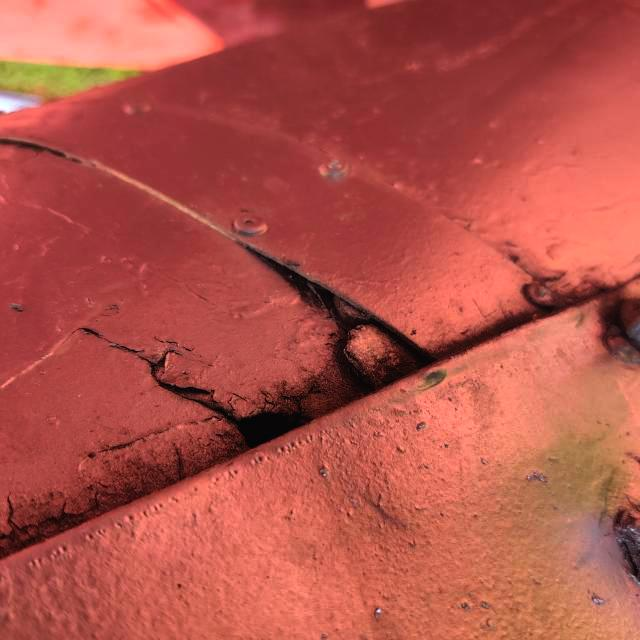crack: (132, 329, 326, 467)
